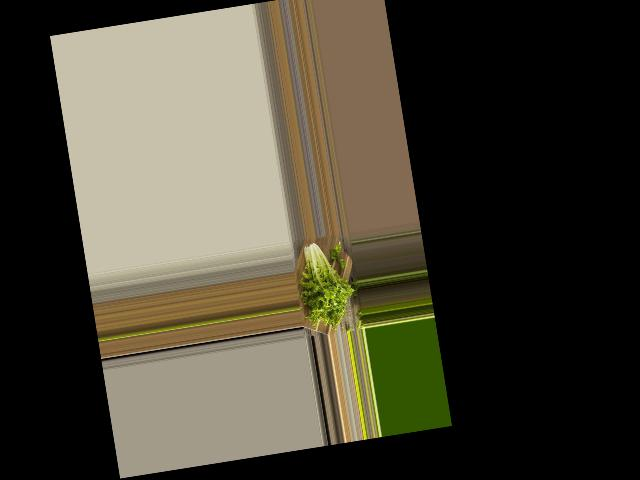lettuce: (292, 233, 357, 329)
